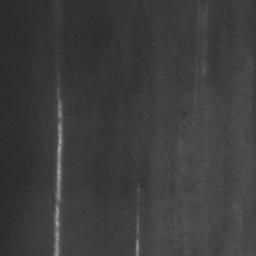Bright scratch: (54, 96, 64, 256), (136, 239, 140, 256)
